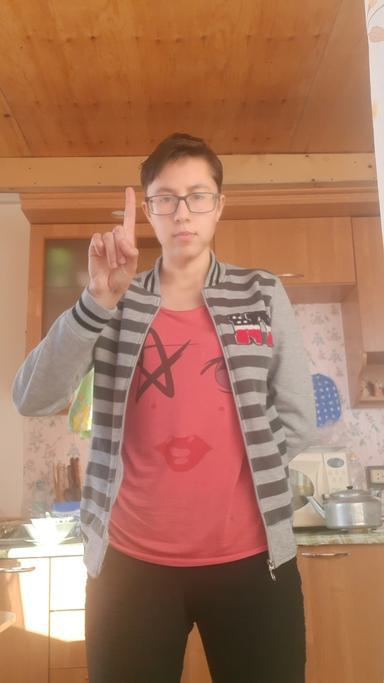one: (86, 184, 140, 299)
